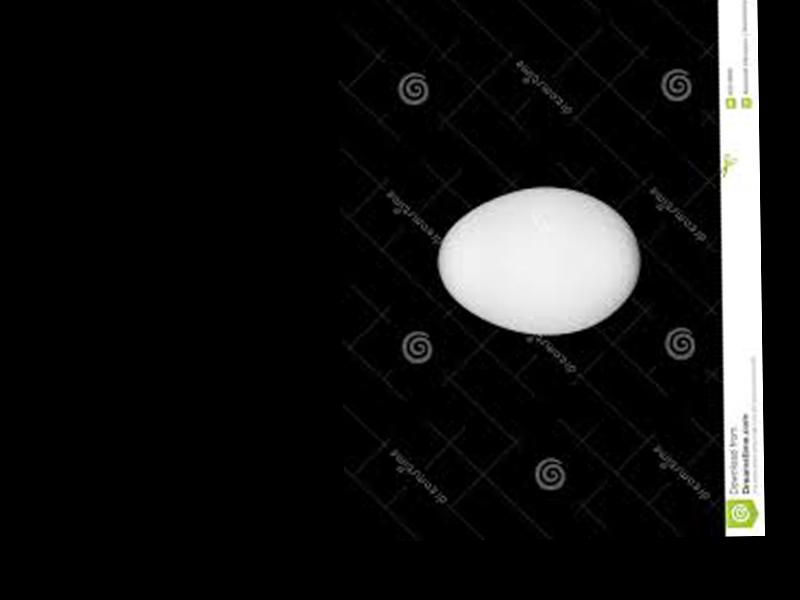Eggs: (438, 182, 640, 335)
